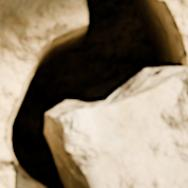brick: (63, 68, 187, 187)
crack: (0, 0, 185, 187)
